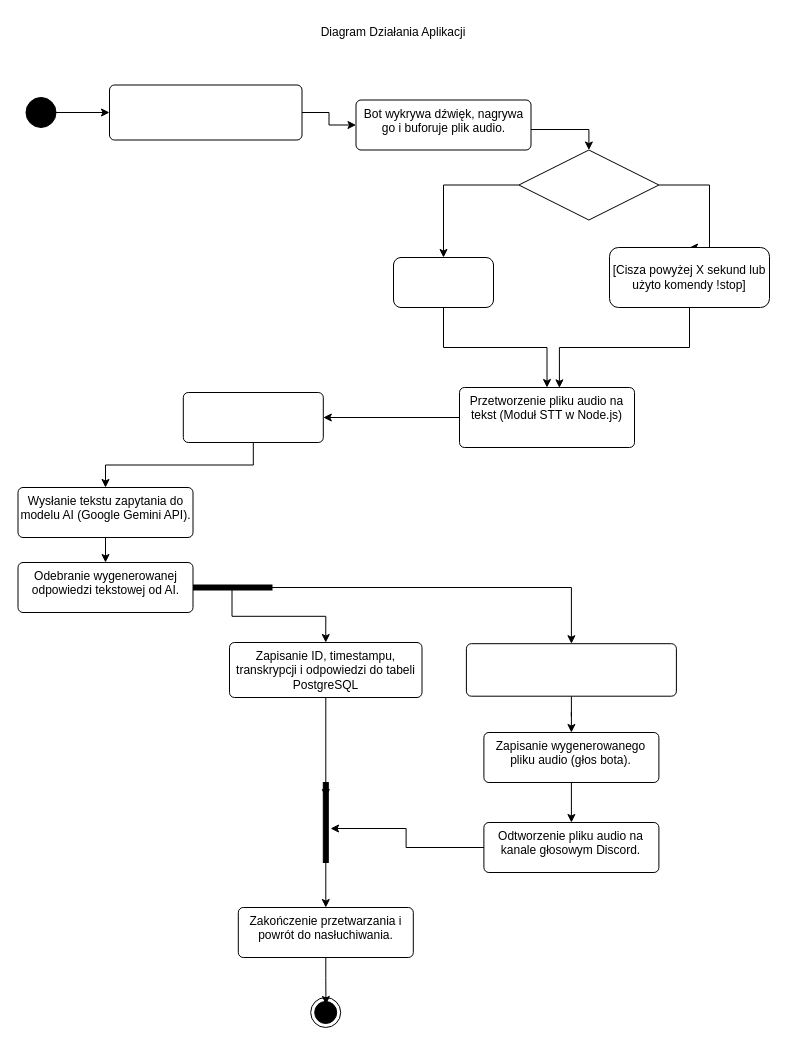
This 787x1045 diagram has some shape labels left out. Here are the shapes that lost their labels. From the top down, the box of each, then its label:
(108, 84, 302, 140): Użytkownik wypowiada komendę !start na kanale głosowym Discord.
(392, 256, 494, 308): [Wykryto mowę]
(182, 392, 323, 442): Odebranie wygenerowanej transkrypcji (tekstu).
(465, 643, 676, 696): Lokalna generacja pliku audio z tekstu (Moduł TTS, np. google-tts-api).
